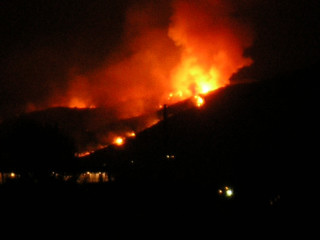fire: (144, 42, 244, 104)
